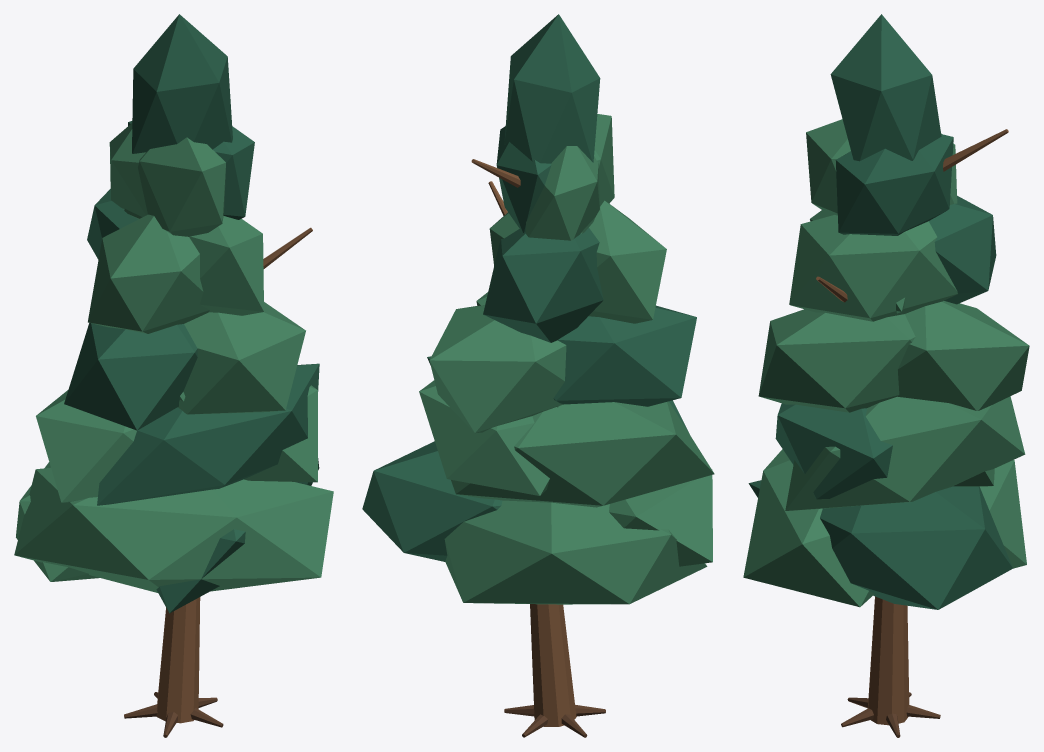
The model's file is mesh_conifer_hero_a.glb.
3 renders of one model, left to right at view 1: azimuth 30°, elevation 25°; view 2: azimuth 150°, elevation 25°; view 3: azimuth 270°, elevation 25°, orthographic.
Parts seen in each view (by area): view 1: mesh_conifer_hero_a__pine_mid, mesh_conifer_hero_a__pine_dark, mesh_conifer_hero_a__bark_mid, mesh_conifer_hero_a__bark_dark; view 2: mesh_conifer_hero_a__pine_mid, mesh_conifer_hero_a__pine_dark, mesh_conifer_hero_a__bark_mid, mesh_conifer_hero_a__bark_dark; view 3: mesh_conifer_hero_a__pine_mid, mesh_conifer_hero_a__pine_dark, mesh_conifer_hero_a__bark_mid, mesh_conifer_hero_a__bark_dark.
Boxes of the visible parts, x1,y1,x2,y2 form: mesh_conifer_hero_a__pine_mid: (14,123,333,592); mesh_conifer_hero_a__pine_dark: (64,14,319,613); mesh_conifer_hero_a__bark_mid: (156,227,312,723); mesh_conifer_hero_a__bark_dark: (124,692,223,737); mesh_conifer_hero_a__pine_mid: (419,114,714,604); mesh_conifer_hero_a__pine_dark: (362,14,696,561); mesh_conifer_hero_a__bark_mid: (471,159,576,726); mesh_conifer_hero_a__bark_dark: (504,704,605,737); mesh_conifer_hero_a__pine_mid: (743,119,1029,607); mesh_conifer_hero_a__pine_dark: (748,14,1012,609); mesh_conifer_hero_a__bark_mid: (816,129,1008,725); mesh_conifer_hero_a__bark_dark: (841,692,940,737).
Size of the model in its own units: 12.45 by 25.54 by 9.44.
